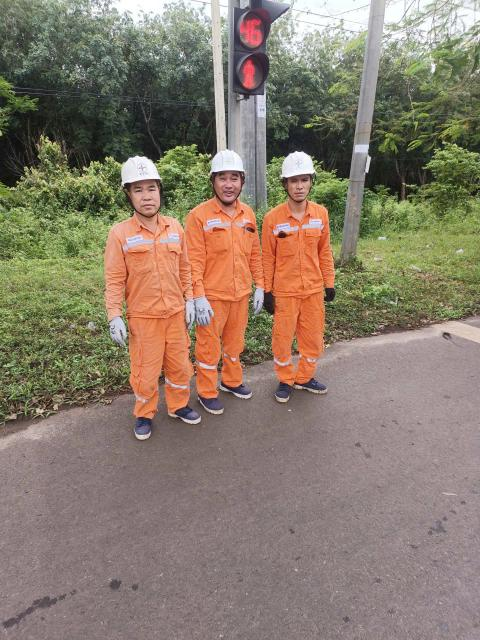gloves: (107, 313, 130, 343), (193, 293, 212, 322), (259, 286, 276, 313), (249, 284, 263, 314), (184, 298, 197, 327), (319, 286, 337, 304)
helmet: (114, 148, 167, 193), (271, 147, 319, 179), (201, 149, 244, 180)
shoes: (224, 368, 256, 403), (161, 405, 204, 427), (289, 374, 325, 400), (199, 387, 228, 415), (129, 413, 157, 441), (271, 376, 291, 403)
